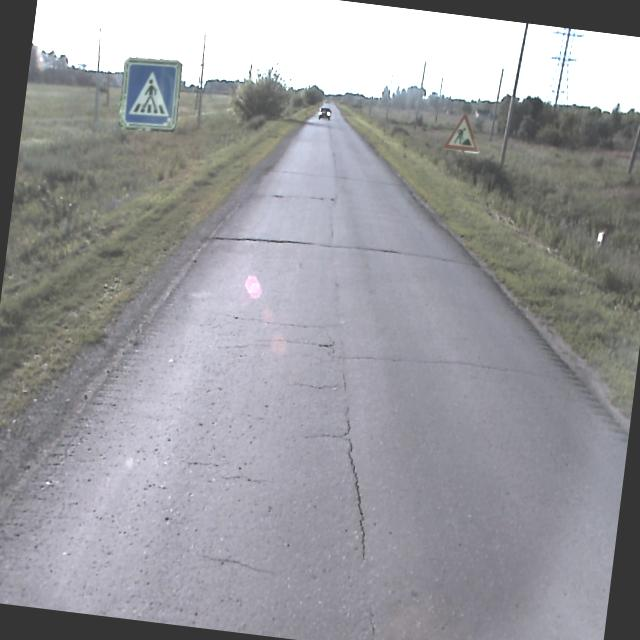road: (0, 109, 628, 640)
